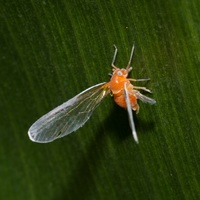insect: (28, 45, 155, 142)
